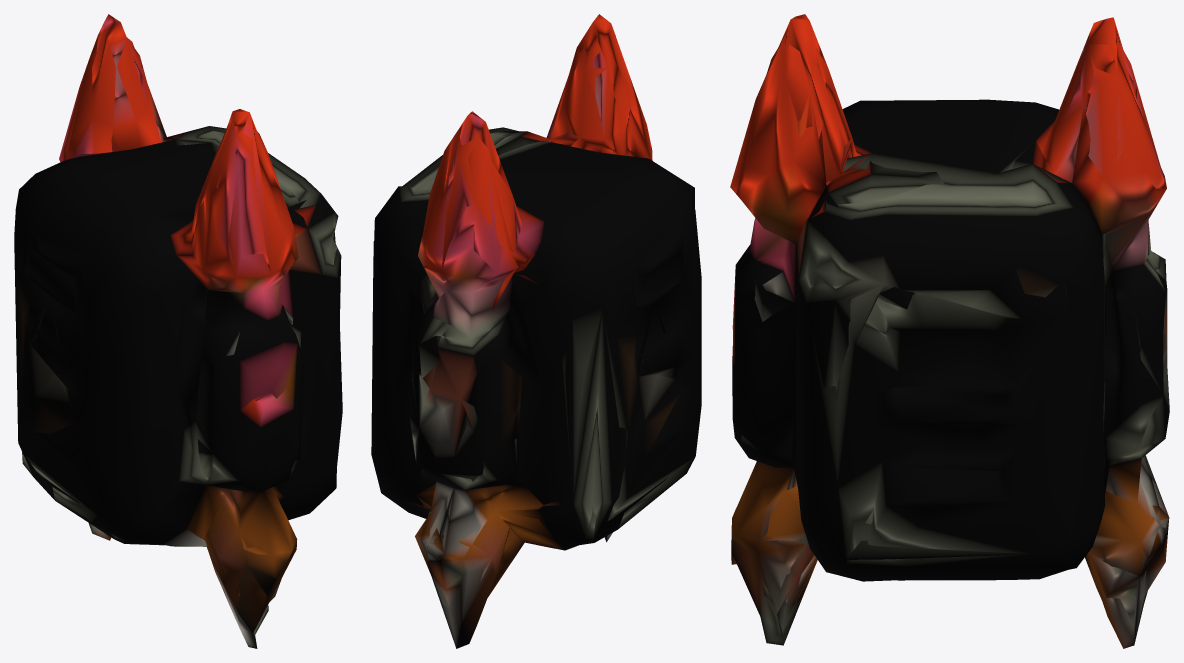
The model's file is gen3d-jetpack-lod0.glb.
3 views of the same model, side by side, from view 1: azimuth 30°, elevation 25°; view 2: azimuth 150°, elevation 25°; view 3: azimuth 270°, elevation 25° (orthographic). The views are drawn at different scales.
Visible parts, largest first — view 1: part_0; view 2: part_0; view 3: part_0.
Part boxes in pixels (left/top/right/bottom): part_0: left=14, top=14, right=342, bottom=648; part_0: left=371, top=14, right=701, bottom=648; part_0: left=730, top=14, right=1169, bottom=648.
Bounding box in the file's own units: 0.5041 × 0.9982 × 0.6325.
